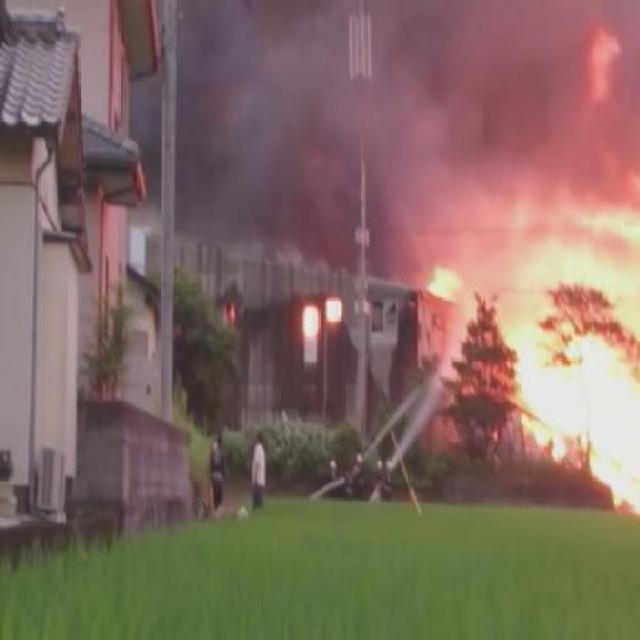Fire: (493, 323, 640, 511), (494, 180, 638, 296), (588, 30, 620, 99), (423, 265, 460, 298)
Smoke: (174, 0, 493, 258), (491, 0, 637, 198)
